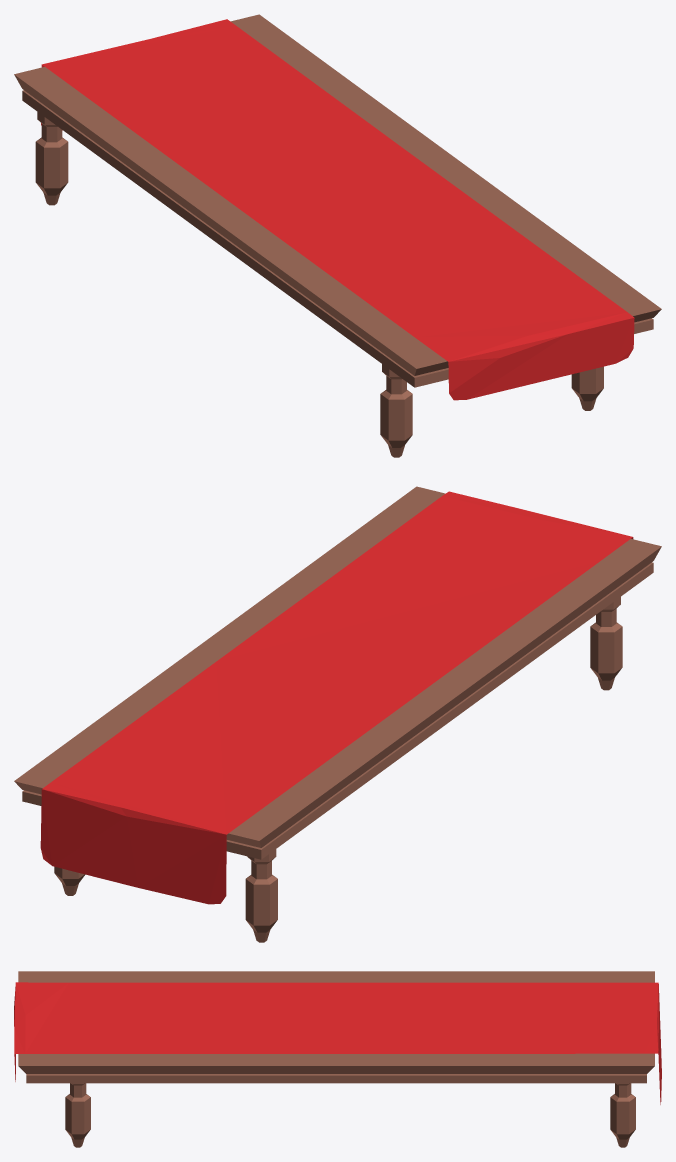
File: Table.fbx
The picture shows the model from 3 angles, top to bottom: view 1: azimuth 30°, elevation 25°; view 2: azimuth 150°, elevation 25°; view 3: azimuth 270°, elevation 25°; orthographic projection. The views are drawn at different scales.
Parts seen in each view (by area): view 1: Cylinder; view 2: Cylinder; view 3: Cylinder.
Part boxes in pixels (box(x1,y1,x2,y2)): Cylinder: box(14, 14, 661, 457); Cylinder: box(14, 486, 661, 942); Cylinder: box(14, 971, 661, 1147).
Size of the model in its own units: 2.4 by 1.12 by 6.95.
